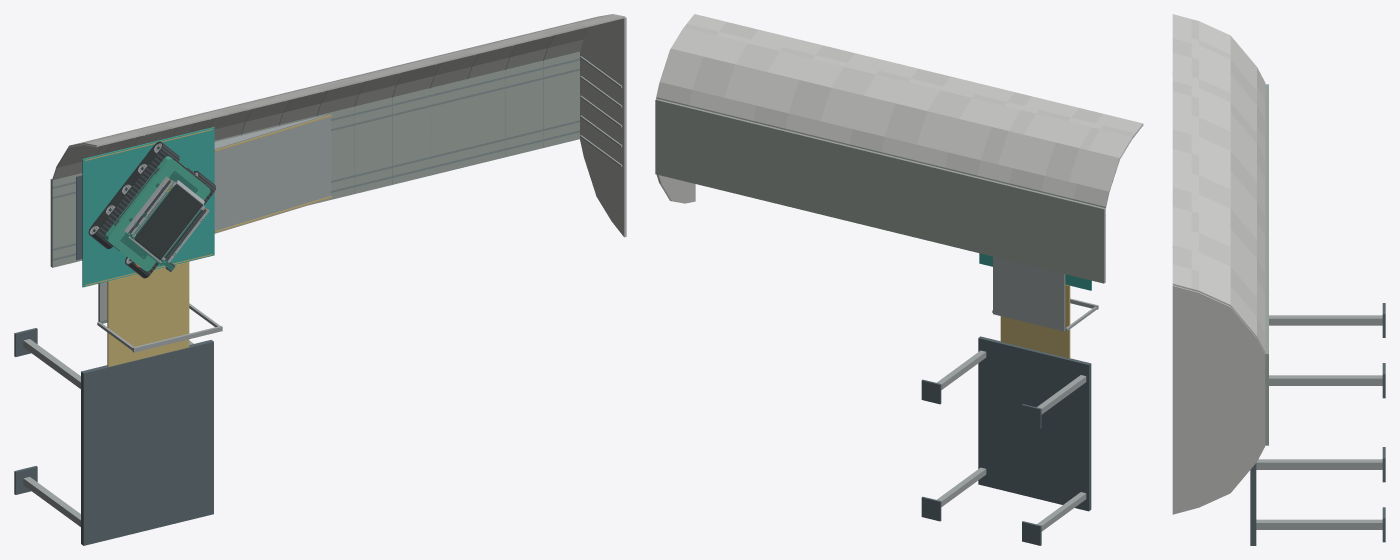
File: Resolved_Entry_Assembly.glb
The picture shows the model from 3 angles, left to right: view 1: azimuth 30°, elevation 25°; view 2: azimuth 150°, elevation 25°; view 3: azimuth 270°, elevation 25°; orthographic projection. The views are drawn at different scales.
Visible parts, largest first — view 1: external_platform, load_floor, exit_ramp, turn_platform, bulkhead_7.7, door_bridge, tray_belt_tray_belt_loop, base_link_teal_body_shell, left_track_link_left_track_belt, left_track_link_left_tread_pads, ground_leg_0.44_-2.33, ground_leg_0.44_-4.25 (+4 smaller); view 2: load_floor, external_platform, entry_pocket_floor, door_bridge, liner_1_0_1, liner_1_12_1, liner_1_9_1, liner_1_13_1, liner_1_8_1, liner_1_15_1, liner_1_7_1, liner_1_3_1 (+32 smaller); view 3: bulkhead_7.7, load_floor, ground_leg_2.16_-4.25, ground_leg_0.44_-4.25, ground_leg_2.16_-2.33, ground_leg_0.44_-2.33, liner_1_15_2, liner_1_14_2, liner_1_13_2, liner_1_11_2, liner_1_10_2, liner_1_7_2 (+37 smaller).
Part boxes in pixels (<box>): external_platform: <box>81,340,213,545</box>; load_floor: <box>50,51,579,267</box>; exit_ramp: <box>214,114,331,233</box>; turn_platform: <box>82,127,214,287</box>; bulkhead_7.7: <box>580,17,626,237</box>; door_bridge: <box>107,261,189,366</box>; tray_belt_tray_belt_loop: <box>134,183,202,259</box>; base_link_teal_body_shell: <box>105,156,210,271</box>; left_track_link_left_track_belt: <box>88,141,179,248</box>; left_track_link_left_tread_pads: <box>89,142,179,249</box>; ground_leg_0.44_-2.33: <box>23,339,80,388</box>; ground_leg_0.44_-4.25: <box>23,477,80,526</box>; load_floor: <box>655,99,1105,283</box>; external_platform: <box>978,336,1091,511</box>; entry_pocket_floor: <box>993,256,1065,331</box>; door_bridge: <box>1000,284,1070,358</box>; liner_1_0_1: <box>1077,150,1119,191</box>; liner_1_12_1: <box>756,72,798,113</box>; liner_1_9_1: <box>852,95,895,136</box>; liner_1_13_1: <box>724,64,766,105</box>; liner_1_8_1: <box>884,103,927,144</box>; liner_1_15_1: <box>660,48,702,89</box>; liner_1_7_1: <box>917,111,959,152</box>; liner_1_3_1: <box>1013,135,1055,175</box>; bulkhead_7.7: <box>1172,285,1265,514</box>; load_floor: <box>1265,84,1268,445</box>; ground_leg_2.16_-4.25: <box>1256,519,1382,529</box>; ground_leg_0.44_-4.25: <box>1256,459,1382,469</box>; ground_leg_2.16_-2.33: <box>1269,375,1382,385</box>; ground_leg_0.44_-2.33: <box>1269,315,1382,325</box>; liner_1_15_2: <box>1199,271,1230,306</box>; liner_1_14_2: <box>1199,252,1230,285</box>; liner_1_13_2: <box>1199,233,1230,266</box>; liner_1_11_2: <box>1199,194,1230,227</box>; liner_1_10_2: <box>1199,175,1230,208</box>; liner_1_7_2: <box>1199,117,1230,150</box>.
Size of the model in its own units: 7.72 by 6.04 by 2.57.
